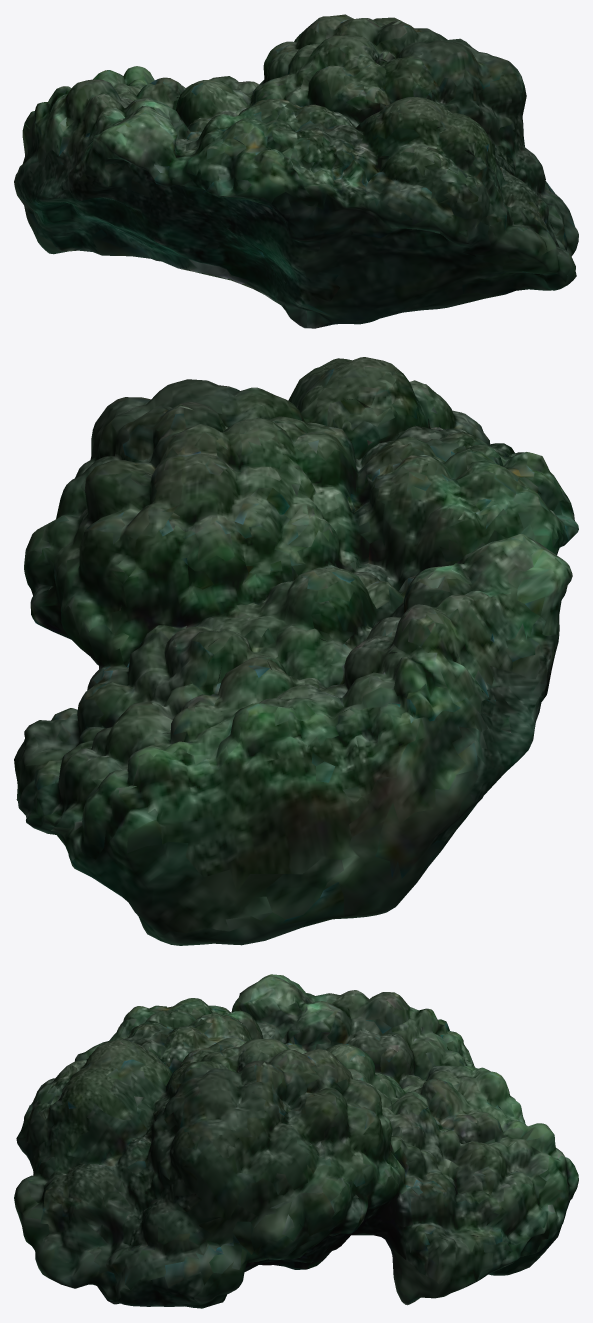
Rendered from malaquita.glb.
3 renders of one model, top to bottom at view 1: azimuth 30°, elevation 25°; view 2: azimuth 150°, elevation 25°; view 3: azimuth 270°, elevation 25°, orthographic. The views are drawn at different scales.
Visible parts, largest first — view 1: Malaquita_Low; view 2: Malaquita_Low; view 3: Malaquita_Low.
Part boxes in pixels (x1,y1,x2,y2): Malaquita_Low: (14,14,578,328); Malaquita_Low: (14,357,578,945); Malaquita_Low: (14,974,578,1308).
Bounding box in the file's own units: 0.8282 × 0.5085 × 1.
Materials: 1 (1 with a texture image).
